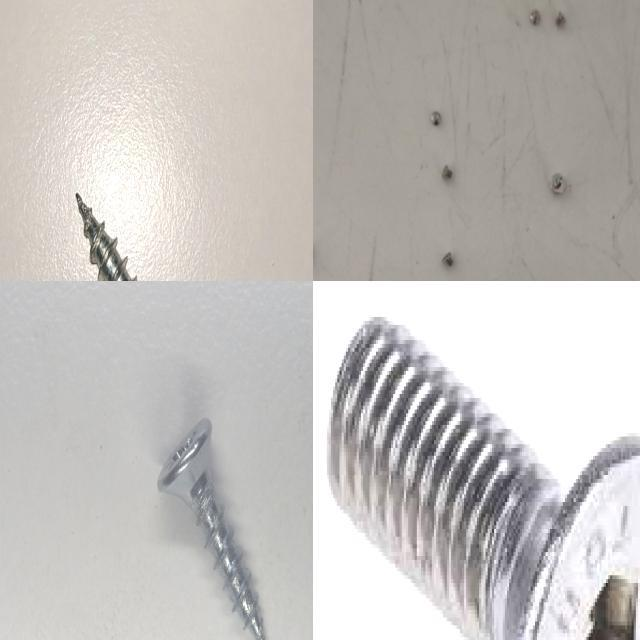Screw: (324, 317, 640, 640), (157, 417, 265, 640), (75, 192, 137, 281), (549, 172, 567, 196), (428, 108, 444, 128), (528, 9, 542, 27), (554, 10, 567, 28), (441, 251, 455, 267), (441, 164, 453, 180)
